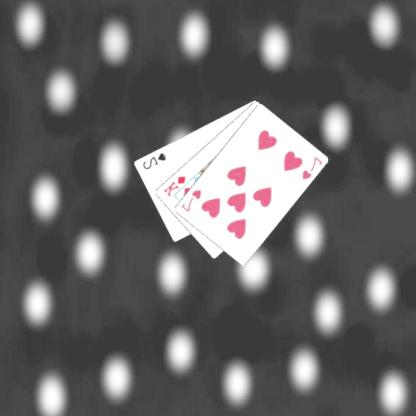2S: (141, 150, 169, 171)
7H: (180, 186, 204, 214), (301, 154, 325, 180)
KD: (162, 172, 188, 198)
